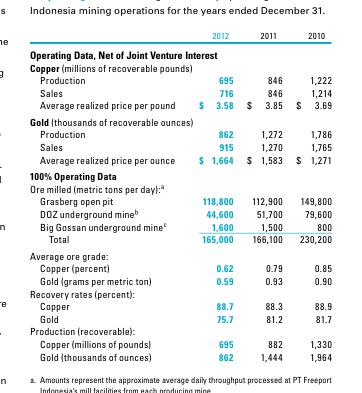table: (29, 29, 330, 361)
table column: (29, 29, 186, 361), (186, 29, 239, 361), (239, 29, 288, 361), (288, 29, 330, 361)
table column header: (29, 29, 330, 44)
table projected row header: (29, 44, 330, 60), (29, 112, 330, 127), (29, 246, 330, 261), (29, 167, 330, 181), (29, 60, 330, 73), (29, 181, 330, 194), (29, 286, 330, 299), (29, 324, 330, 337)
table row: (29, 44, 330, 60), (29, 29, 330, 44), (29, 112, 330, 127), (29, 152, 330, 167), (29, 246, 330, 261), (29, 98, 330, 112), (29, 167, 330, 181), (29, 232, 330, 246), (29, 60, 330, 73), (29, 85, 330, 98), (29, 127, 330, 140), (29, 181, 330, 194), (29, 206, 330, 219), (29, 219, 330, 232), (29, 273, 330, 286), (29, 286, 330, 299), (29, 311, 330, 324), (29, 324, 330, 337), (29, 73, 330, 85), (29, 140, 330, 152), (29, 194, 330, 206), (29, 261, 330, 273), (29, 299, 330, 311), (29, 337, 330, 349), (29, 349, 330, 361)
